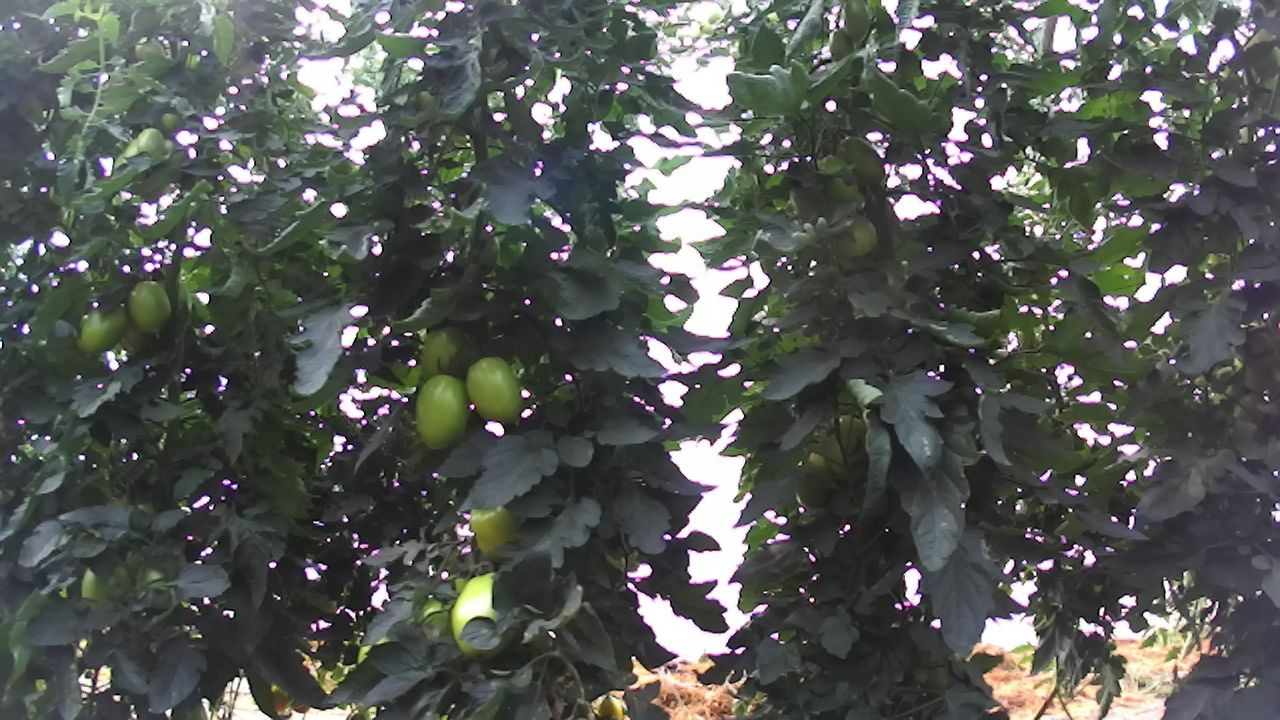tomato: (412, 371, 472, 453), (462, 352, 522, 427), (122, 276, 174, 339), (73, 300, 128, 359), (133, 125, 167, 157)
